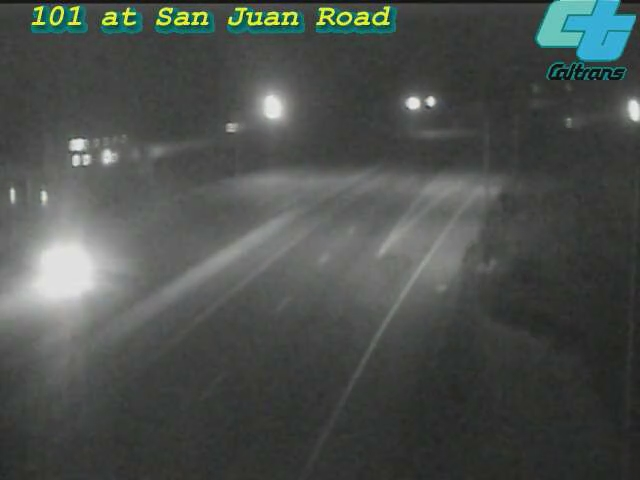vehicle: (21, 228, 101, 308), (607, 86, 640, 136)
